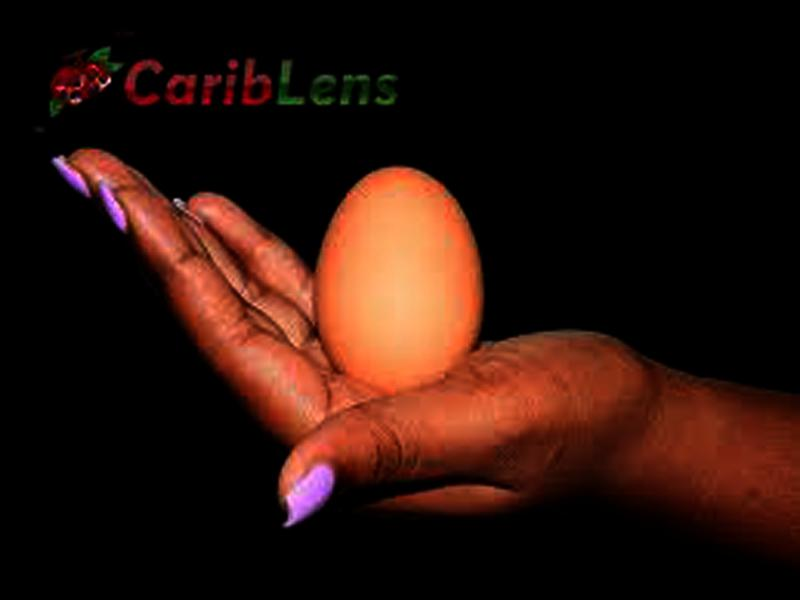Eggs: (312, 164, 485, 390)
